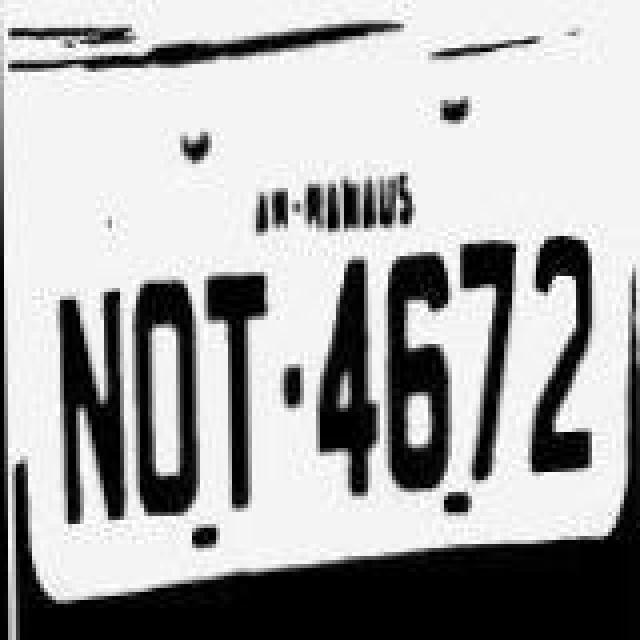2: (522, 230, 598, 482)
4: (306, 250, 382, 506)
6: (378, 248, 462, 500)
7: (448, 228, 528, 488)
N: (42, 280, 126, 528)
O: (126, 268, 202, 524)
T: (200, 270, 272, 518)
